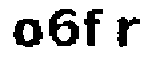6: (46, 6, 80, 49)
f: (83, 7, 105, 49)
o: (11, 18, 43, 48)
r: (112, 15, 143, 51)
